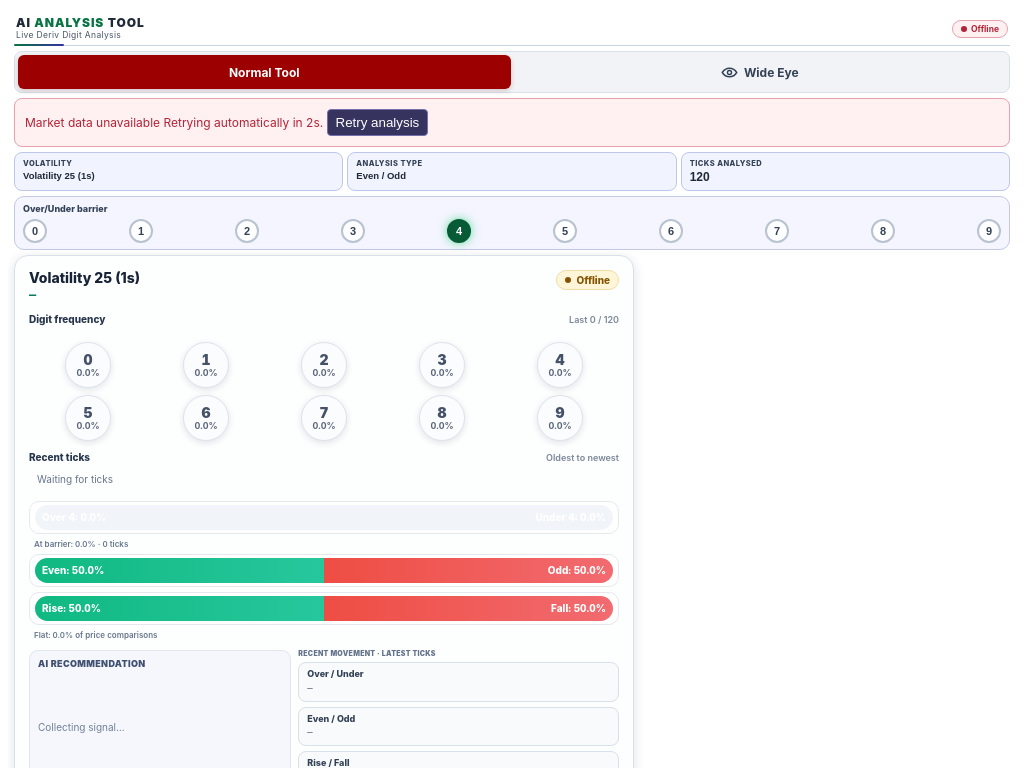
Test: AI Analysis site-session lifecycle › shows broker errors and lets users retry through the same client
This screenshot has width=1024, height=768.
expect the text "Market data unavailable Retrying automatically in 2s. Retry analysis" is shown: met, box [14,98,1010,147]
Click the button "Retry analysis". click: coordinates (377, 122)
box: [327,109,428,136]
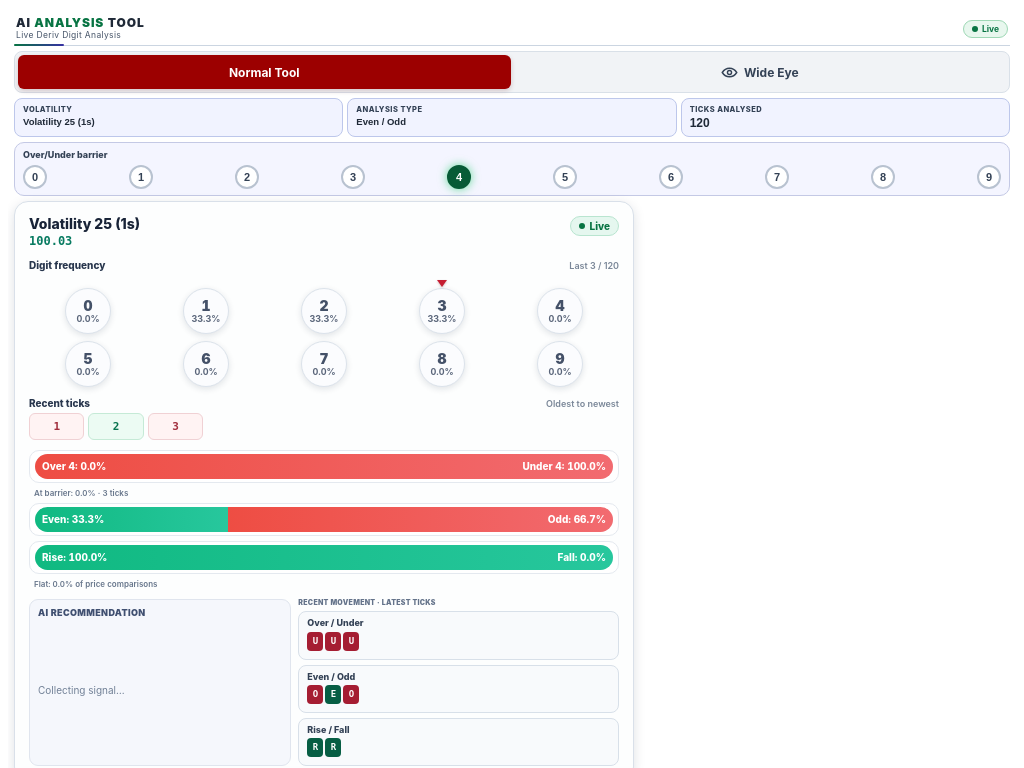
expect the message with test id "status-analysis-connection" reads "Live": met, box [982,24,999,34]
expect the text "Market data unavailable" is gone: met
